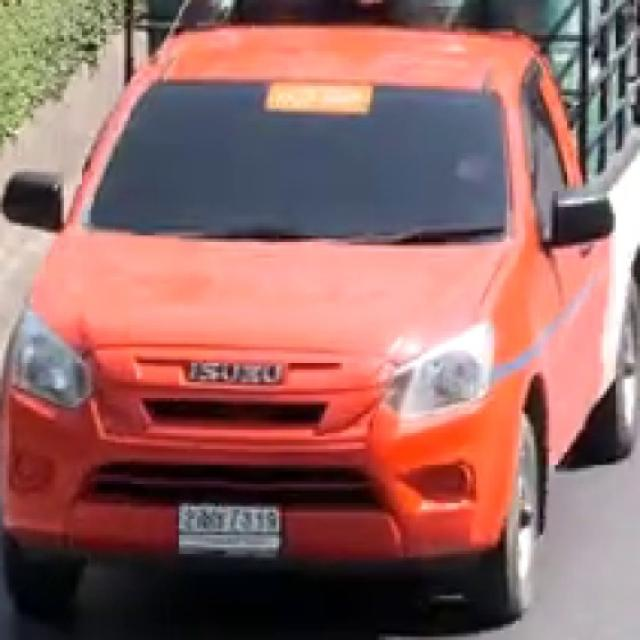plate: (179, 504, 281, 554)
